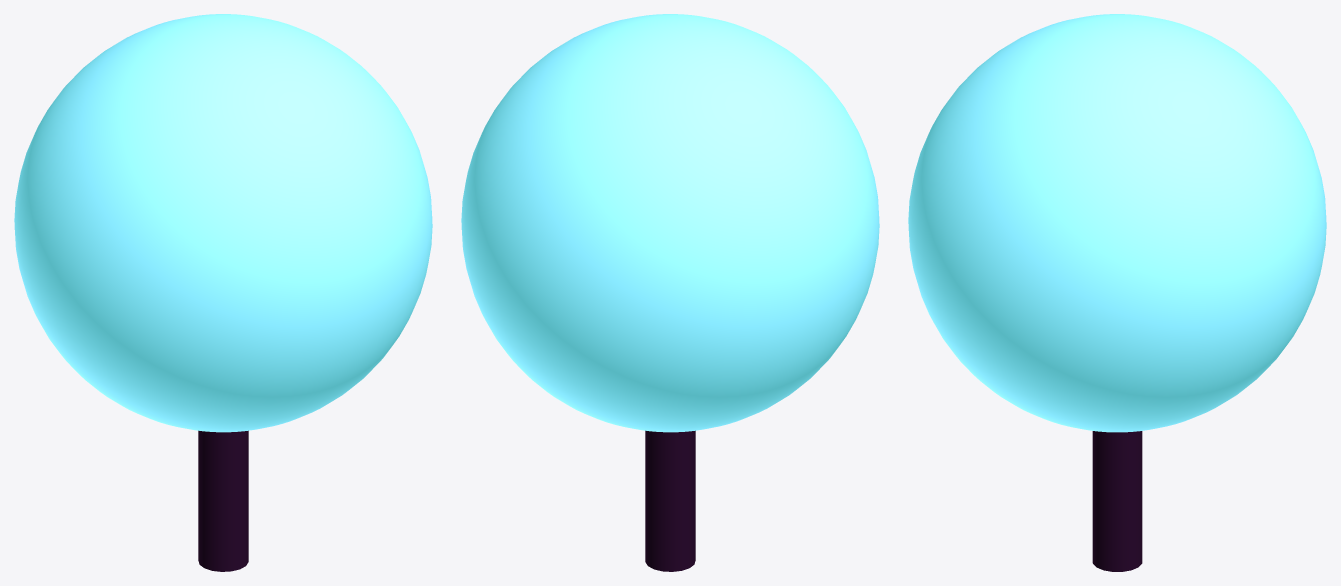
Rendered from round tree.fbx.
3 renders of one model, left to right at view 1: azimuth 30°, elevation 25°; view 2: azimuth 150°, elevation 25°; view 3: azimuth 270°, elevation 25°, orthographic.
Visible parts, largest first — view 1: Sphere, Cylinder_4; view 2: Sphere, Cylinder_4; view 3: Sphere, Cylinder_4.
Boxes of the visible parts, x1,y1,x2,y2 form: Sphere: (14, 14, 432, 432); Cylinder_4: (198, 430, 248, 571); Sphere: (461, 14, 879, 432); Cylinder_4: (645, 430, 695, 571); Sphere: (908, 14, 1326, 432); Cylinder_4: (1092, 431, 1142, 571).
Size of the model in its own units: 121 by 168 by 121.
